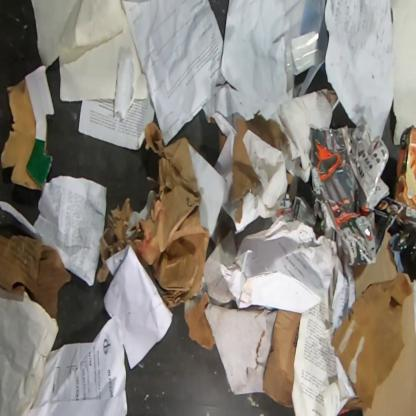cardboard: (309, 122, 405, 266), (363, 272, 415, 415), (204, 303, 279, 395), (0, 65, 55, 190), (228, 115, 288, 224), (0, 233, 72, 319), (389, 123, 416, 281), (263, 309, 302, 408), (355, 232, 398, 300), (184, 293, 216, 350), (218, 128, 226, 157)
soft_plastic: (283, 0, 330, 98)
